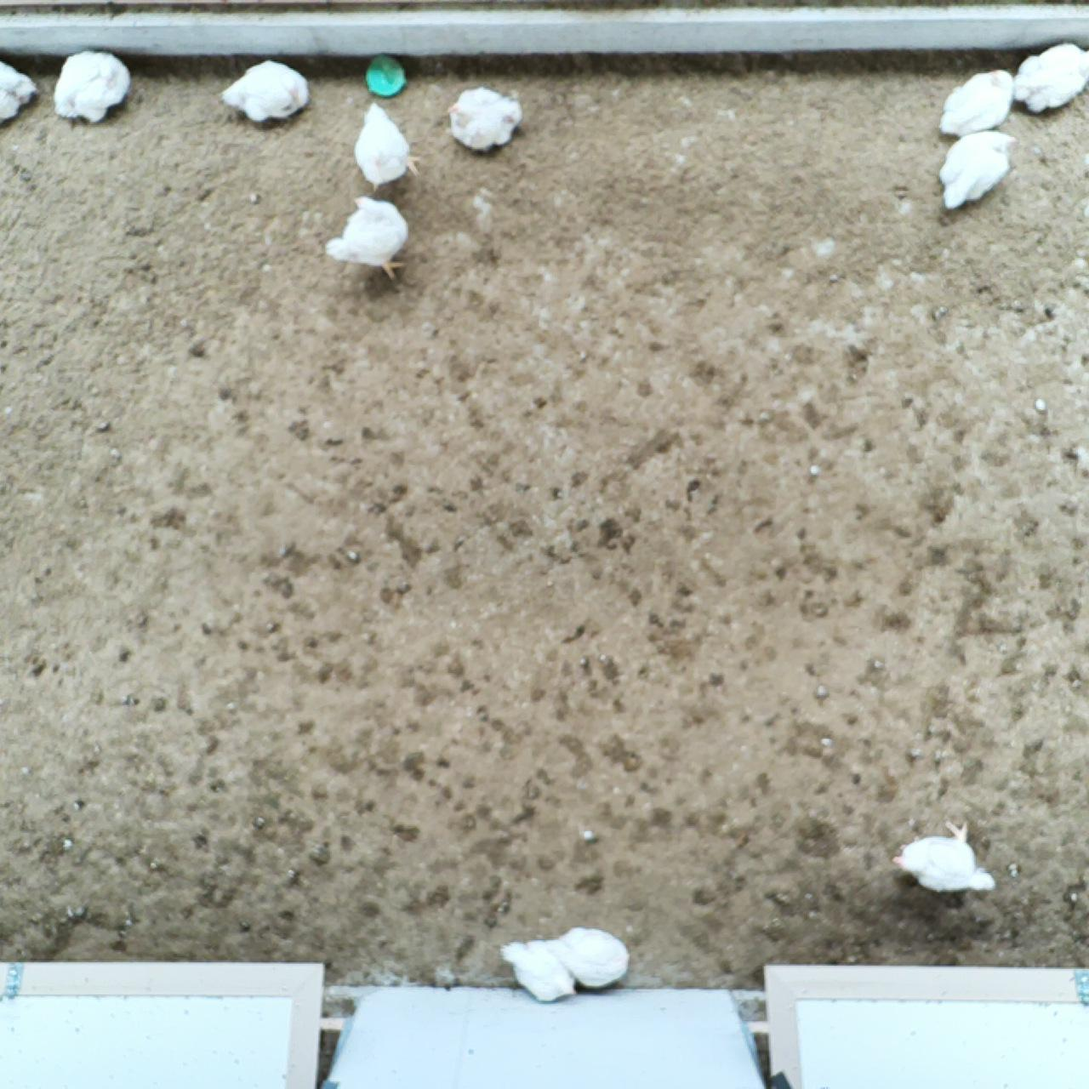chicken: (884, 814, 999, 906), (319, 195, 413, 285), (216, 53, 312, 132), (931, 125, 1020, 210), (436, 79, 529, 157), (541, 917, 635, 992), (352, 97, 425, 193), (46, 48, 133, 127), (1009, 36, 1089, 117), (938, 66, 1019, 145), (497, 936, 581, 1007), (0, 59, 41, 128)
